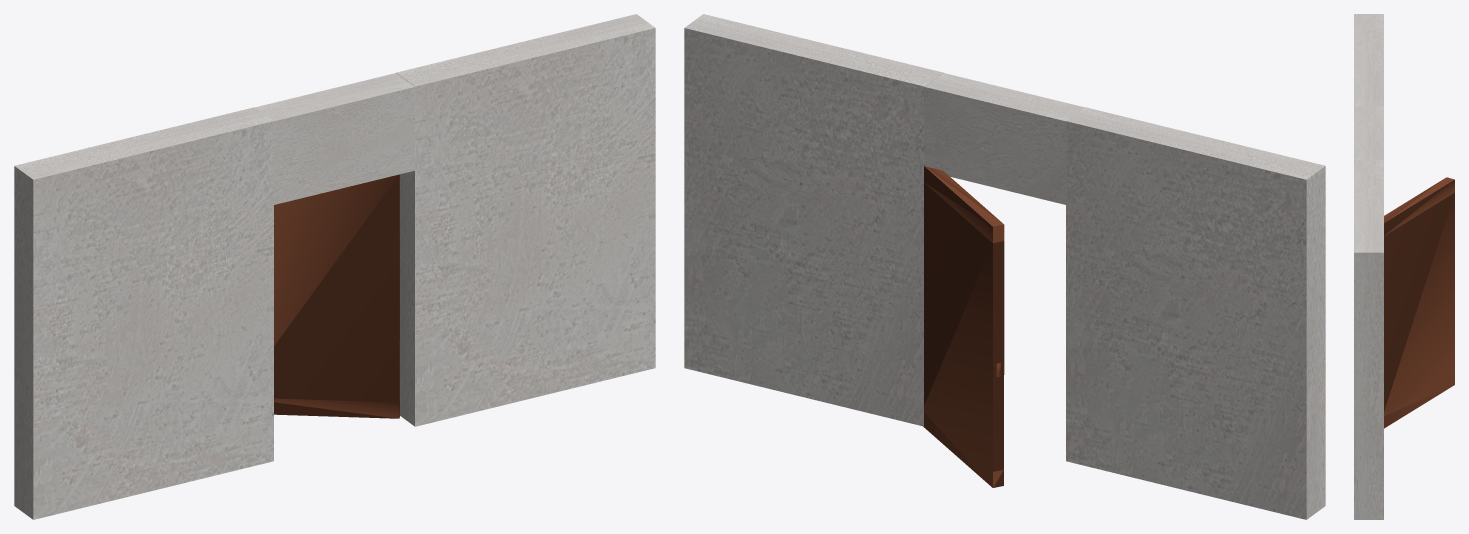
Rendered from wall_open_doors.fbx.
3 views of the same model, side by side, from view 1: azimuth 30°, elevation 25°; view 2: azimuth 150°, elevation 25°; view 3: azimuth 270°, elevation 25° (orthographic). The views are drawn at different scales.
Visible parts, largest first — view 1: Wall; view 2: Wall; view 3: Wall.
Part boxes in pixels (box(x1,y1,x2,y2)): Wall: box(14, 14, 655, 519); Wall: box(684, 14, 1325, 519); Wall: box(1354, 14, 1454, 519).
Bounding box in the file's own units: 573 × 300 × 102.
